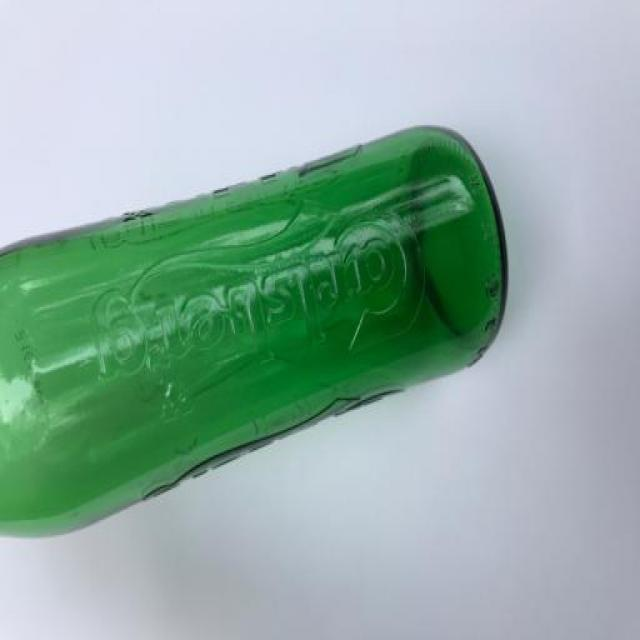glass: (7, 112, 526, 546)
